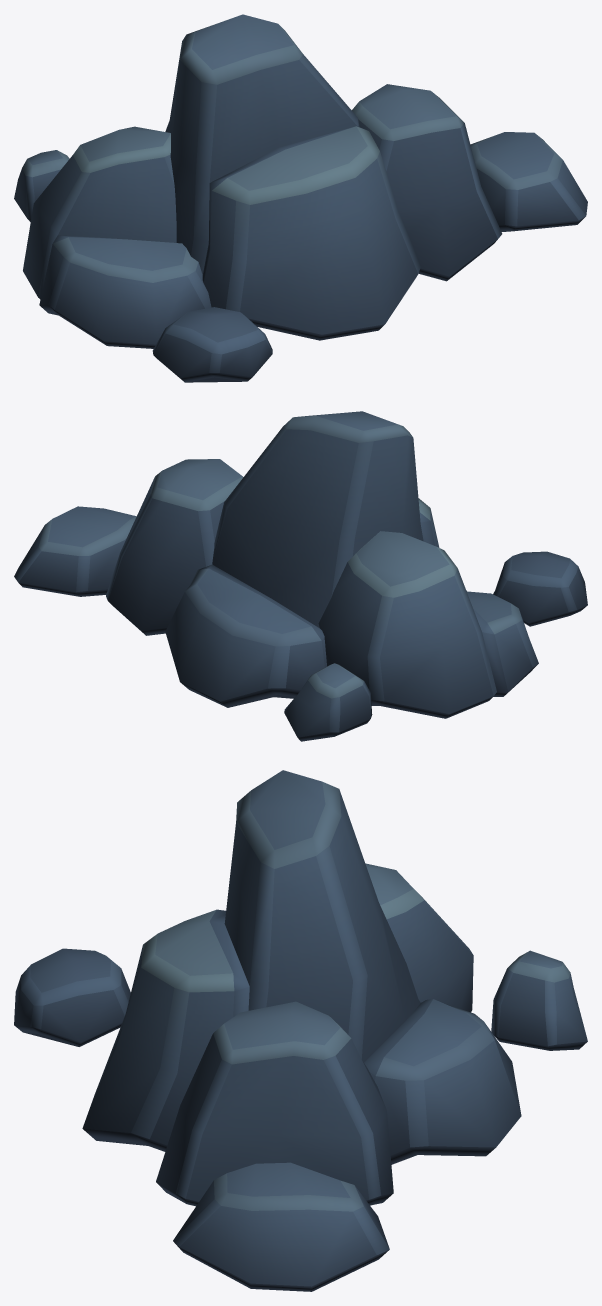
Rendered from rock1.glb.
3 views of the same model, one above another, from view 1: azimuth 30°, elevation 25°; view 2: azimuth 150°, elevation 25°; view 3: azimuth 270°, elevation 25° (orthographic). The views are drawn at different scales.
Visible parts, largest first — view 1: rock_arrangement_small; view 2: rock_arrangement_small; view 3: rock_arrangement_small.
Boxes of the visible parts, bbox=[...] form: rock_arrangement_small: bbox=[14, 14, 587, 382]; rock_arrangement_small: bbox=[14, 411, 587, 741]; rock_arrangement_small: bbox=[14, 770, 587, 1291].
Size of the model in its own units: 3.35 by 1.68 by 2.59.
Materials: 2 (2 with a texture image).
